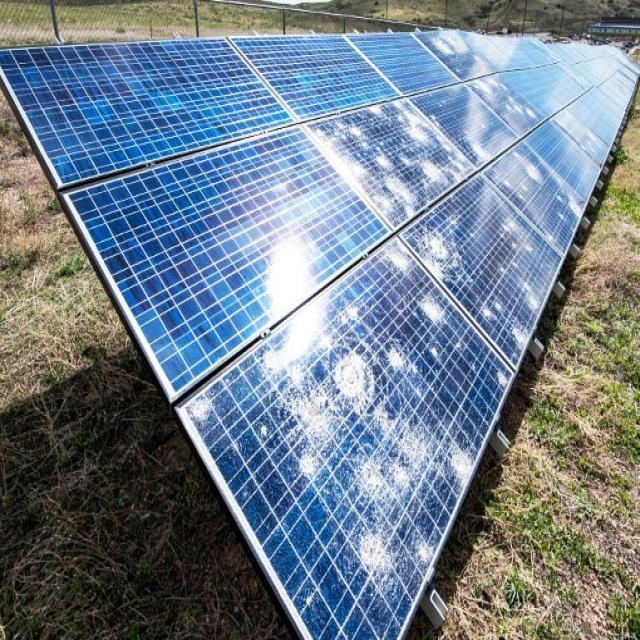faulty: (175, 237, 512, 640), (398, 166, 560, 382), (301, 94, 478, 238), (482, 141, 586, 262), (464, 70, 542, 138), (419, 28, 496, 86)
no faulty: (64, 126, 388, 403), (0, 33, 296, 200)
